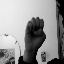e: (23, 16, 47, 47)
